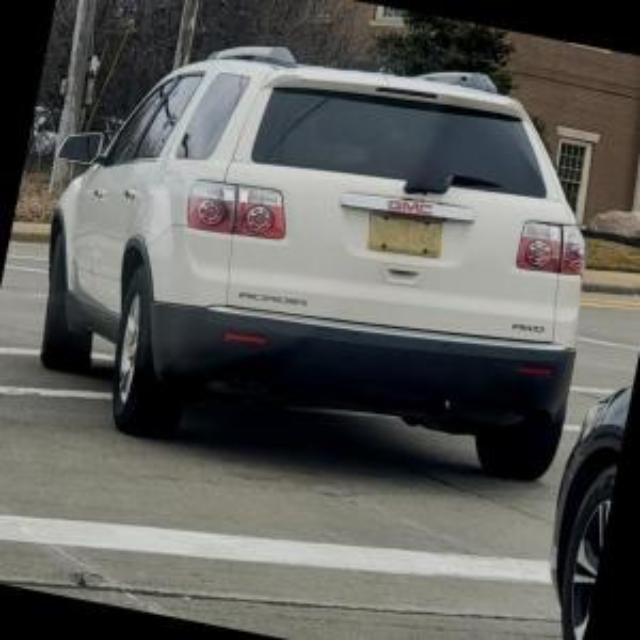License Plate: (366, 211, 443, 258)
